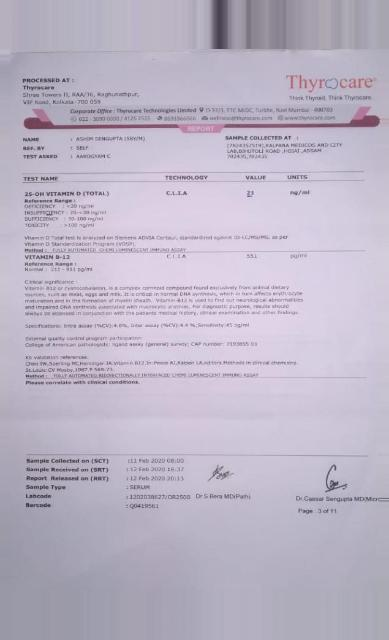Clinical_Conditions: (23, 278, 308, 320)
Name: (74, 134, 146, 143)
Ref_By: (75, 145, 92, 151)
Technology: (165, 253, 194, 263), (164, 188, 190, 198)
Test_Asked: (74, 153, 116, 160)
Test_Name: (22, 188, 119, 232), (23, 253, 96, 276)
Unit: (289, 188, 314, 198), (290, 251, 310, 262)
Value: (245, 252, 262, 263), (246, 188, 258, 199)
